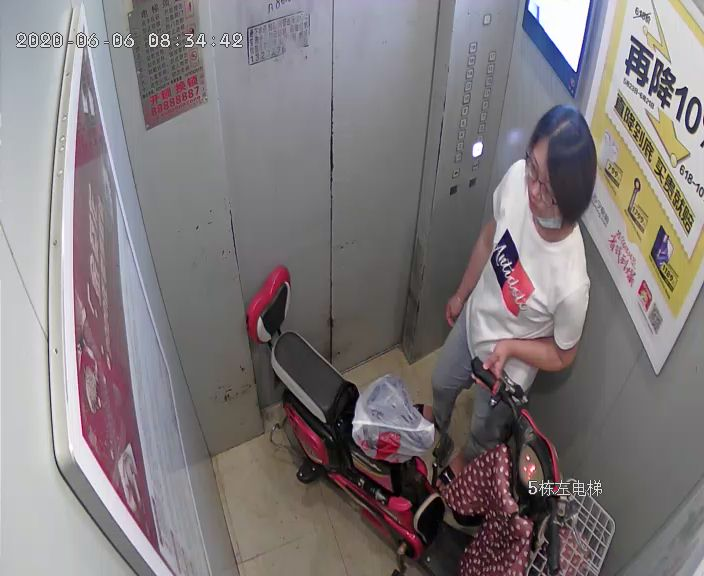Electric-bicycle: (251, 265, 617, 576)
